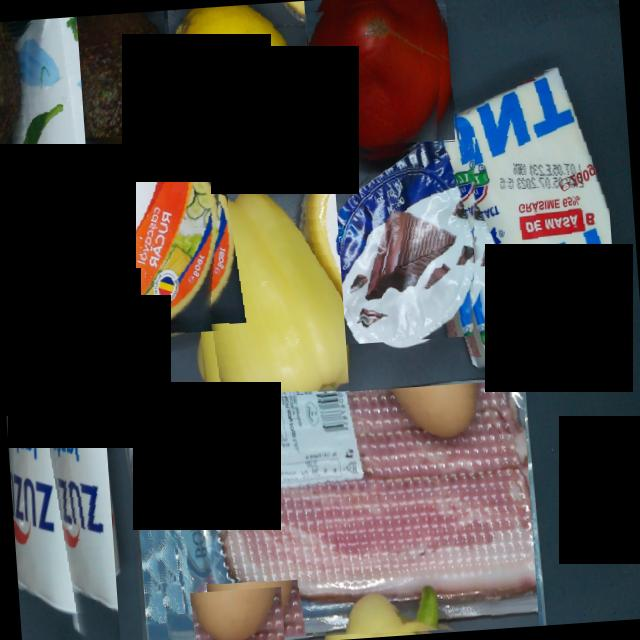avocado: (38, 10, 172, 140)
bacon: (130, 379, 538, 640)
butter: (448, 65, 618, 359)
cheese: (80, 143, 236, 339)
eggs: (189, 586, 284, 640)
lemon: (167, 0, 315, 174)
milk: (0, 16, 120, 640)
pepper: (191, 187, 352, 448)
tomatoes: (304, 0, 454, 149)
yogurt: (331, 136, 488, 344)
